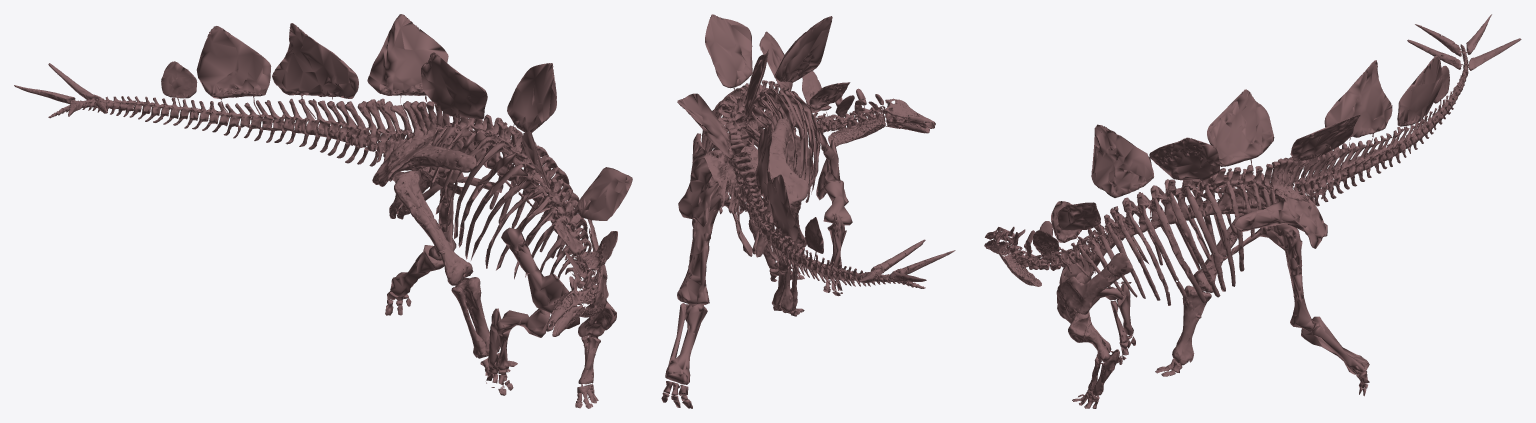
The model's file is stego-skeleton.glb.
3 renders of one model, left to right at view 1: azimuth 30°, elevation 25°; view 2: azimuth 150°, elevation 25°; view 3: azimuth 270°, elevation 25°, orthographic. The views are drawn at different scales.
Visible parts, largest first — view 1: Object_2; view 2: Object_2; view 3: Object_2.
Boxes of the visible parts, left/top/right/bottom form: Object_2: left=14, top=14, right=632, bottom=408; Object_2: left=661, top=14, right=955, bottom=408; Object_2: left=984, top=14, right=1521, bottom=408.
Bounding box in the file's own units: 3753 × 2907 × 4829.
